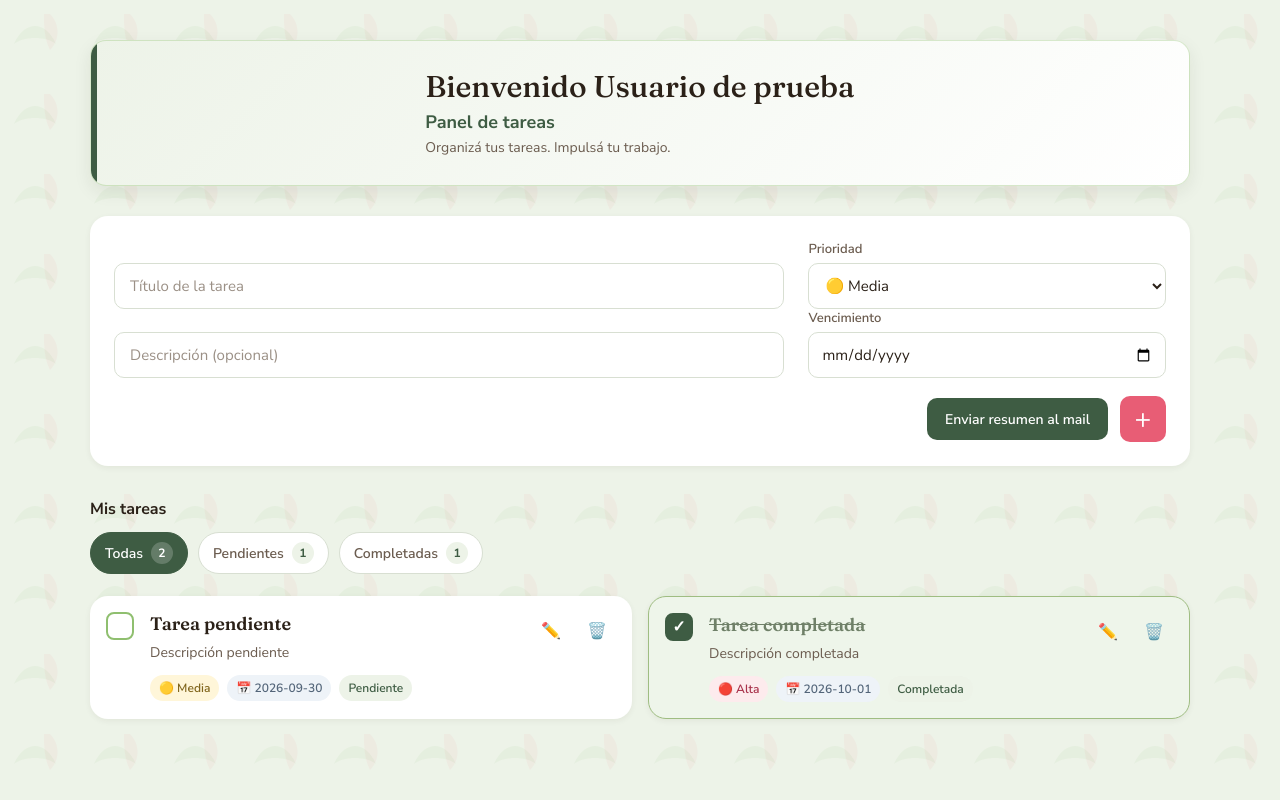
Scenario: Dashboard › muestra todas las tareas al seleccionar el filtro Todas
Click the button "Pendientes 1": (263, 553) [198,532,329,574]
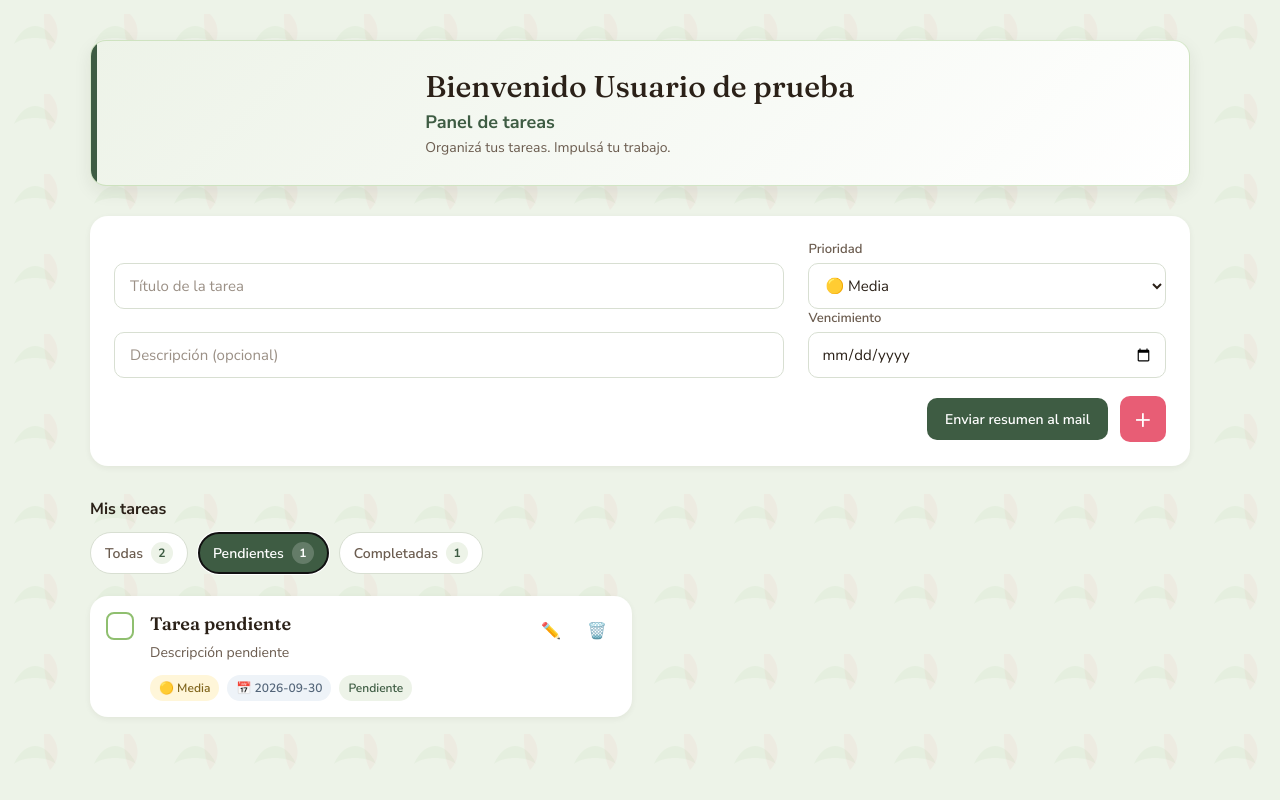
Expected: the heading "Tarea completada" is gone
Click the button "Todas 2": (139, 553) [90,532,188,574]
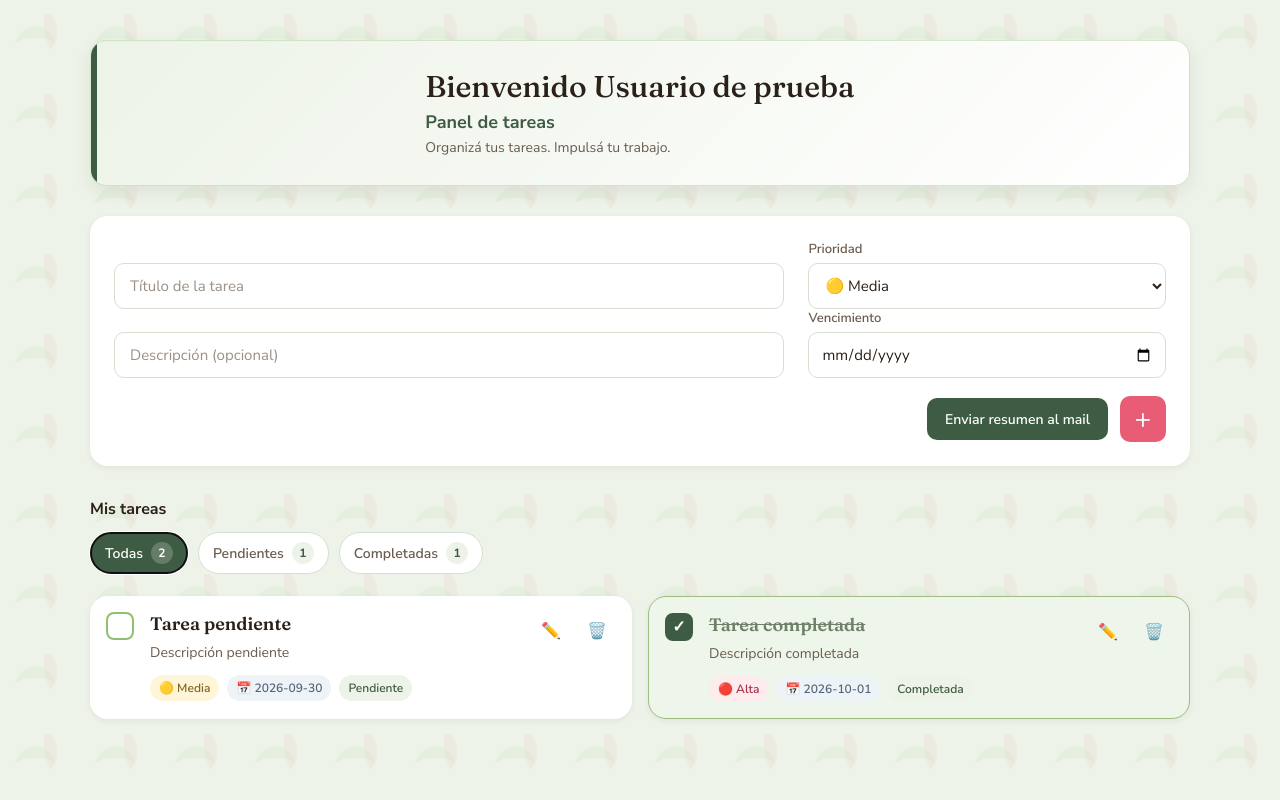
Expected: the heading "Tarea pendiente" is shown, [150,612,291,635]
Expected: the heading "Tarea completada" is shown, [709,613,865,636]
